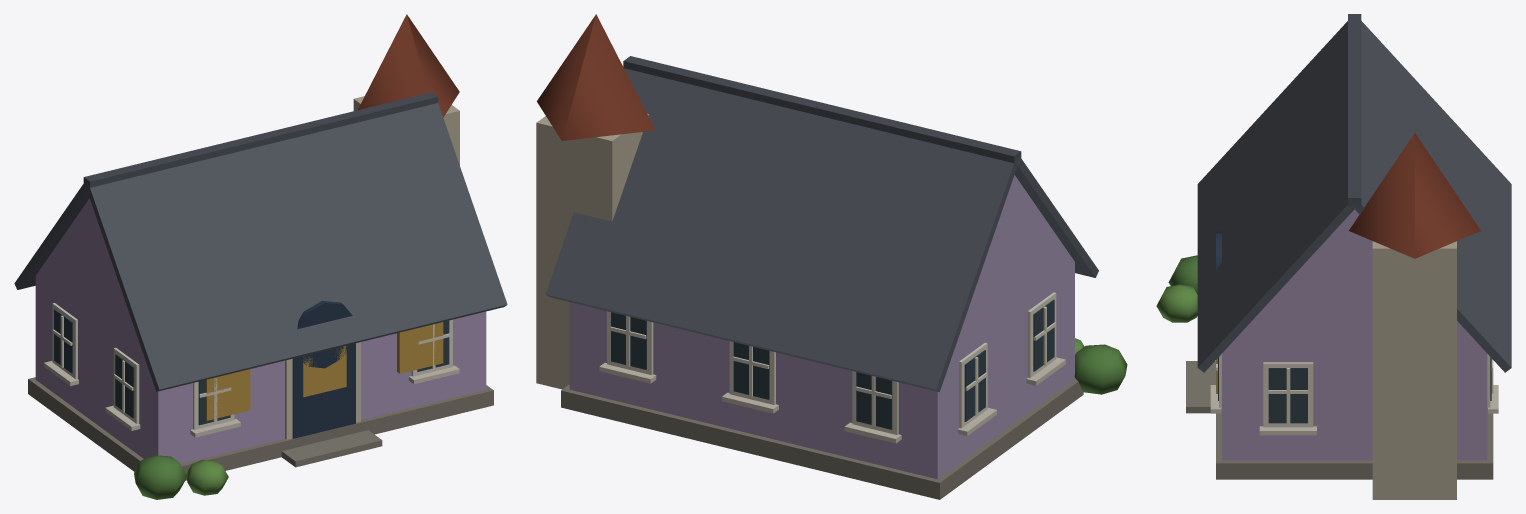
Rendered from procedural_scriptorium@4.glb.
3 views of the same model, side by side, from view 1: azimuth 30°, elevation 25°; view 2: azimuth 150°, elevation 25°; view 3: azimuth 270°, elevation 25° (orthographic). The views are drawn at different scales.
Parts seen in each view (by area): view 1: part_0; view 2: part_0; view 3: part_0.
Part boxes in pixels (x1,y1,x2,y2): part_0: (14, 14, 507, 499); part_0: (536, 14, 1127, 499); part_0: (1156, 14, 1511, 499).
Bounding box in the file's own units: 8.8 × 6.45 × 5.89.
